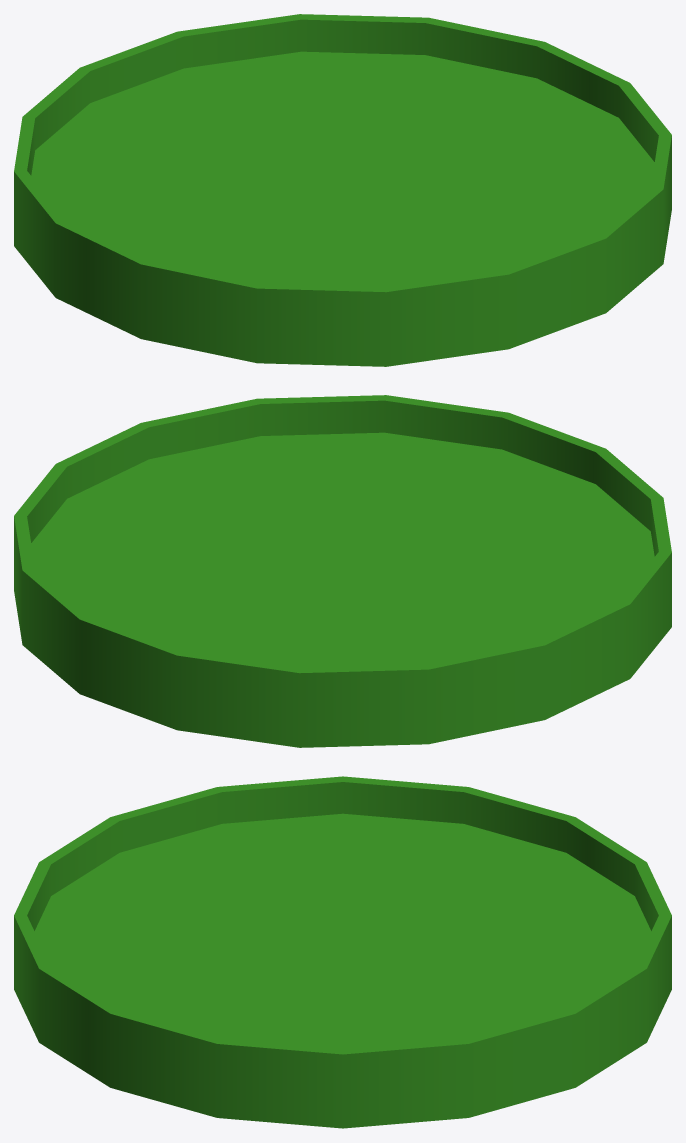
Rendered from lilypad_uncut.fbx.
The picture shows the model from 3 angles, top to bottom: view 1: azimuth 30°, elevation 25°; view 2: azimuth 150°, elevation 25°; view 3: azimuth 270°, elevation 25°; orthographic projection.
Parts seen in each view (by area): view 1: lilypad_uncut; view 2: lilypad_uncut; view 3: lilypad_uncut.
Boxes of the visible parts, bbox=[...] form: lilypad_uncut: bbox=[14, 14, 671, 366]; lilypad_uncut: bbox=[14, 395, 671, 747]; lilypad_uncut: bbox=[14, 776, 671, 1128].
Bounding box in the file's own units: 200 × 24.83 × 200.
